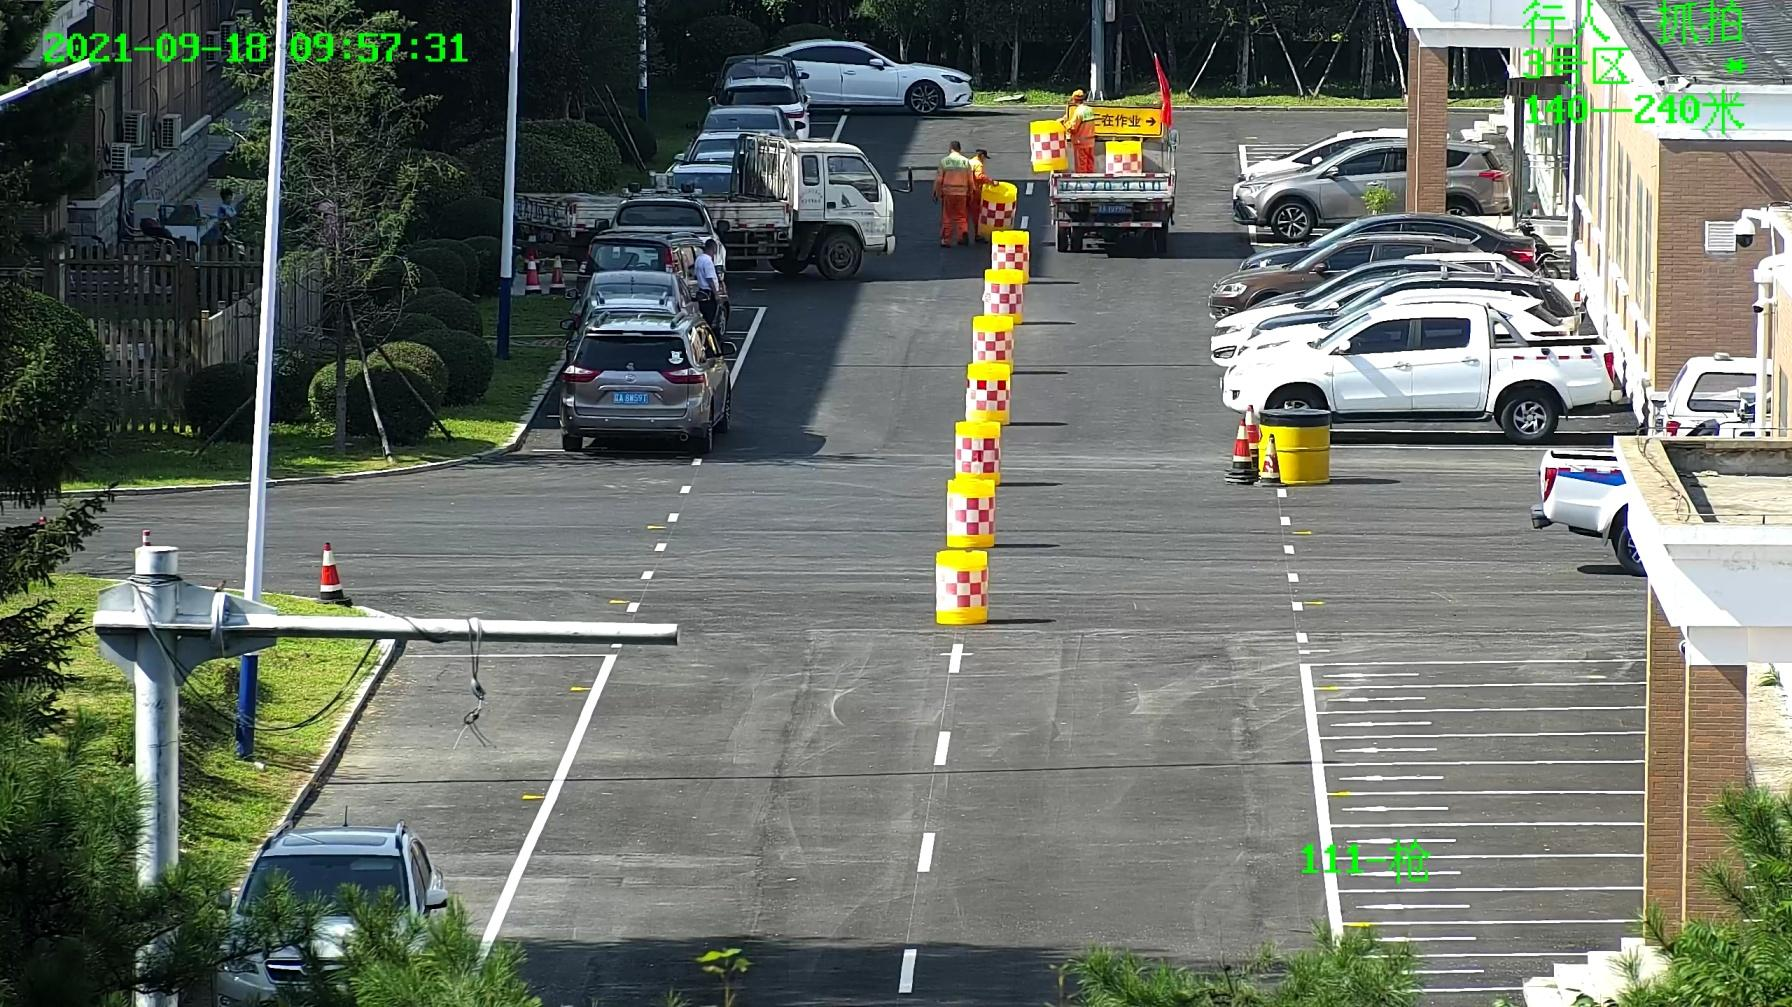cone_barrel: (934, 550, 988, 627), (946, 474, 994, 545), (953, 421, 997, 495), (967, 359, 1010, 423), (974, 181, 1014, 241), (974, 316, 1014, 371), (1026, 119, 1063, 171), (982, 268, 1022, 311), (1104, 139, 1145, 180), (990, 231, 1026, 270)
